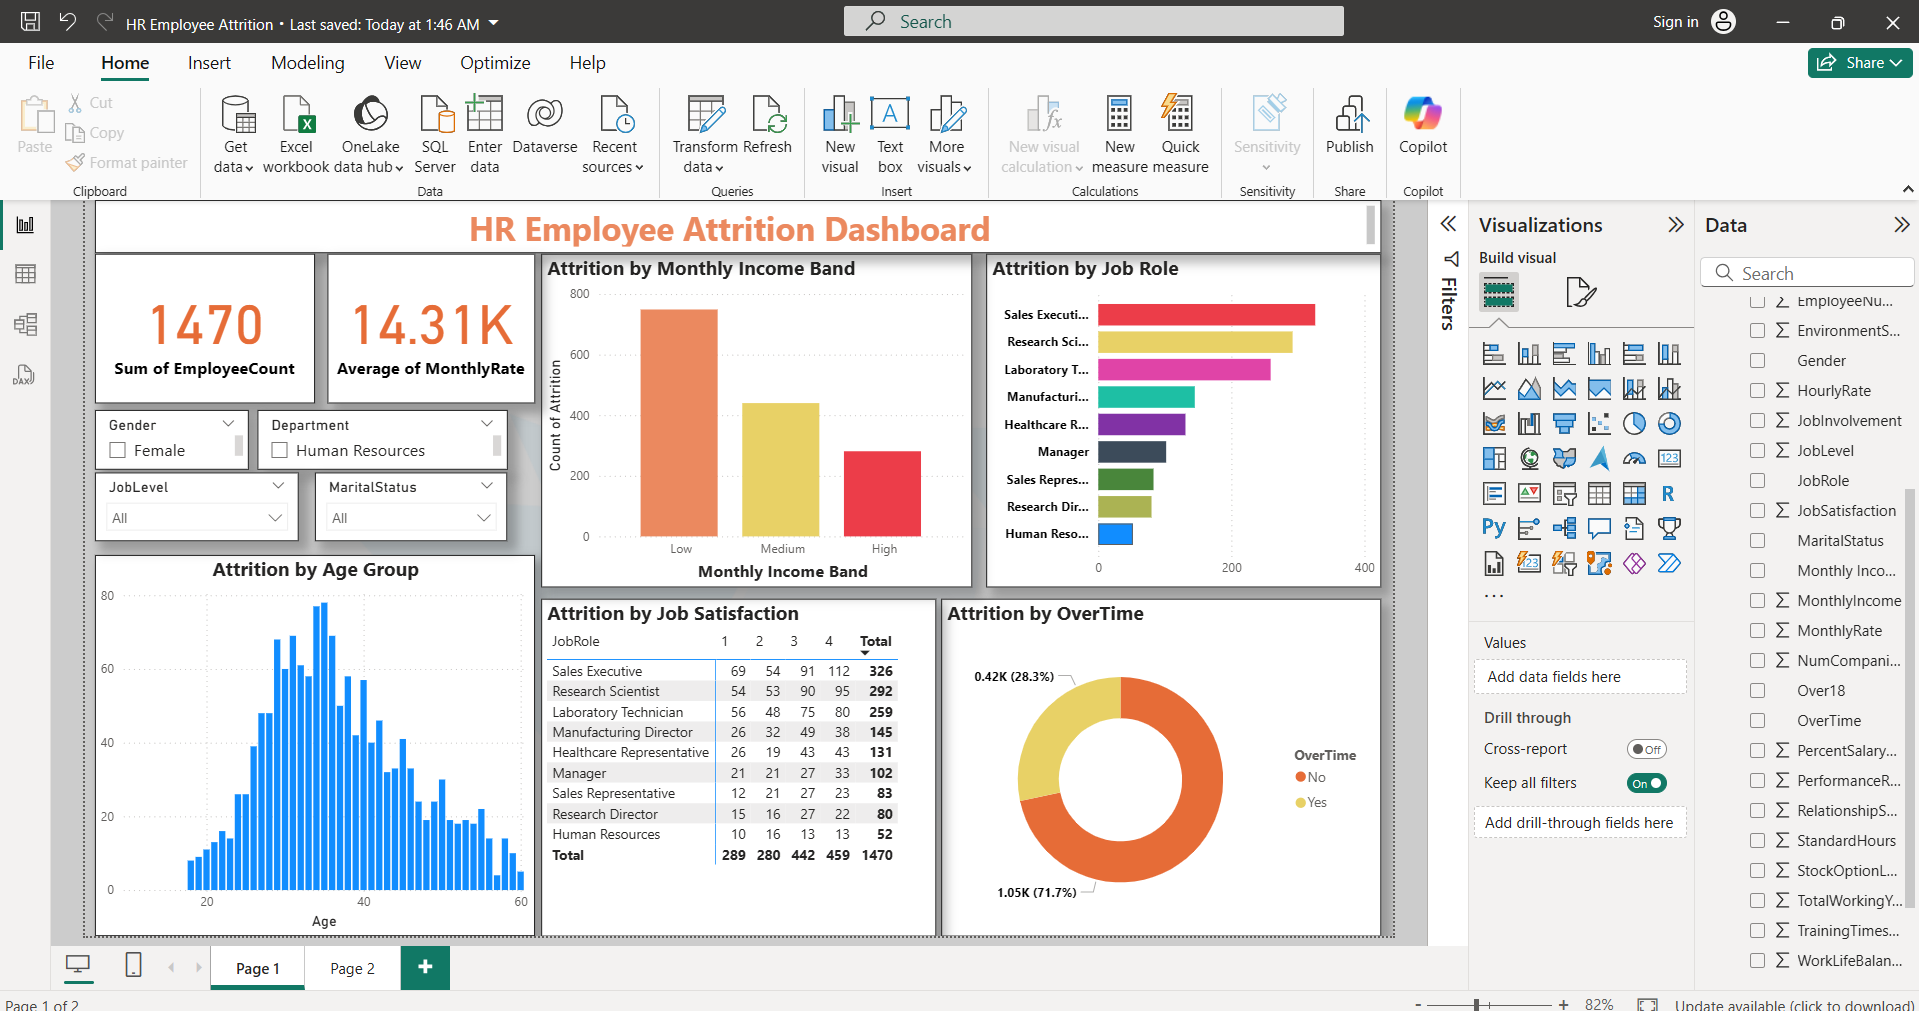

The page's visual inventory and layout, read from the dashboard file:
{"tool":"powerbi","page":{"name":"Page 1","canvas":[1280,720],"ordinal":0},"visuals":[{"type":"clusteredColumnChart","title":"Attrition by Age Group","fields":{"Category":["WA_Fn-UseC_-HR-Employee-Attrition.Age"],"Y":["CountNonNull(WA_Fn-UseC_-HR-Employee-Attrition.Attrition)"]},"box":[9.8,347.3,430.4,373],"z":0},{"type":"barChart","title":"Attrition by Job Role","fields":{"Category":["WA_Fn-UseC_-HR-Employee-Attrition.JobRole"],"Y":["CountNonNull(WA_Fn-UseC_-HR-Employee-Attrition.Attrition)"]},"box":[881.7,52.6,386.4,326.5],"z":1000},{"type":"donutChart","title":" Attrition by OverTime","fields":{"Y":["CountNonNull(WA_Fn-UseC_-HR-Employee-Attrition.Attrition)"],"Category":["WA_Fn-UseC_-HR-Employee-Attrition.OverTime"]},"box":[837.6,390.1,430.4,330.2],"z":2000},{"type":"pivotTable","title":"Attrition by Job Satisfaction","fields":{"Rows":["WA_Fn-UseC_-HR-Employee-Attrition.JobRole"],"Values":["CountNonNull(WA_Fn-UseC_-HR-Employee-Attrition.Attrition)"],"Columns":["WA_Fn-UseC_-HR-Employee-Attrition.JobSatisfaction"]},"box":[446.3,390.1,386.4,330.2],"z":3000},{"type":"columnChart","title":"Attrition by Monthly Income Band","fields":{"Category":["WA_Fn-UseC_-HR-Employee-Attrition.Monthly Income Band"],"Y":["CountNonNull(WA_Fn-UseC_-HR-Employee-Attrition.Attrition)"]},"box":[446.3,52.6,421.9,326.5],"z":4000},{"type":"textbox","box":[10.2,0,1258.4,52.1],"z":6000},{"type":"card","fields":{"Values":["Sum(WA_Fn-UseC_-HR-Employee-Attrition.EmployeeCount)"]},"box":[9.8,52.6,215.2,146.7],"z":6001},{"type":"card","fields":{"Values":["Avg(WA_Fn-UseC_-HR-Employee-Attrition.MonthlyRate)"]},"box":[237.2,52.6,203,146.7],"z":6003},{"type":"slicer","fields":{"Values":["WA_Fn-UseC_-HR-Employee-Attrition.Gender"]},"box":[9.8,205.4,150.4,58.7],"z":6004},{"type":"slicer","fields":{"Values":["WA_Fn-UseC_-HR-Employee-Attrition.Department"]},"box":[168.8,205.4,244.6,58.7],"z":6005},{"type":"slicer","fields":{"Values":["WA_Fn-UseC_-HR-Employee-Attrition.JobLevel"]},"box":[9.8,266.6,199.3,67.3],"z":6006},{"type":"slicer","fields":{"Values":["WA_Fn-UseC_-HR-Employee-Attrition.MaritalStatus"]},"box":[225,266.6,188.3,67.3],"z":6007}]}

Visuals, with their boxes on the page's 1280x720 design canvas (x1, y1, x2, y2). These are canvas units, not pixel positions in the 1919x1011 screenshot, which may show the page scaled, cropped or inside an application window:
"Attrition by Age Group" clusteredColumnChart: {"x1": 10, "y1": 347, "x2": 440, "y2": 720}
"Attrition by Job Role" barChart: {"x1": 882, "y1": 53, "x2": 1268, "y2": 379}
" Attrition by OverTime" donutChart: {"x1": 838, "y1": 390, "x2": 1268, "y2": 720}
"Attrition by Job Satisfaction" pivotTable: {"x1": 446, "y1": 390, "x2": 833, "y2": 720}
"Attrition by Monthly Income Band" columnChart: {"x1": 446, "y1": 53, "x2": 868, "y2": 379}
textbox: {"x1": 10, "y1": 0, "x2": 1269, "y2": 52}
card - Sum(WA_Fn-UseC_-HR-Employee-Attrition.EmployeeCount): {"x1": 10, "y1": 53, "x2": 225, "y2": 199}
card - Avg(WA_Fn-UseC_-HR-Employee-Attrition.MonthlyRate): {"x1": 237, "y1": 53, "x2": 440, "y2": 199}
slicer - WA_Fn-UseC_-HR-Employee-Attrition.Gender: {"x1": 10, "y1": 205, "x2": 160, "y2": 264}
slicer - WA_Fn-UseC_-HR-Employee-Attrition.Department: {"x1": 169, "y1": 205, "x2": 413, "y2": 264}
slicer - WA_Fn-UseC_-HR-Employee-Attrition.JobLevel: {"x1": 10, "y1": 267, "x2": 209, "y2": 334}
slicer - WA_Fn-UseC_-HR-Employee-Attrition.MaritalStatus: {"x1": 225, "y1": 267, "x2": 413, "y2": 334}
